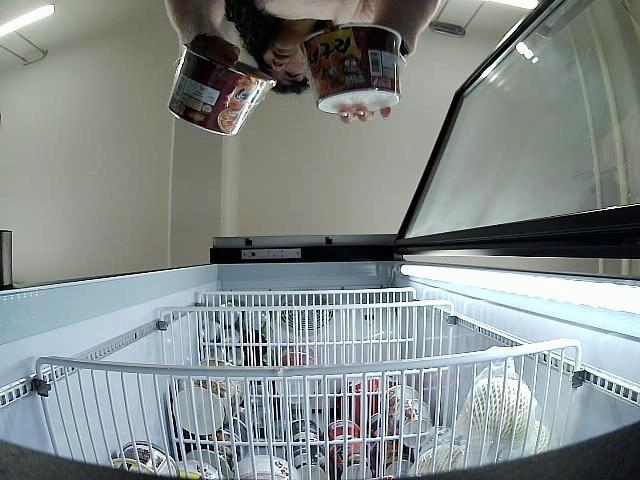05_nuguri_L: (165, 42, 278, 138), (300, 22, 404, 115)
